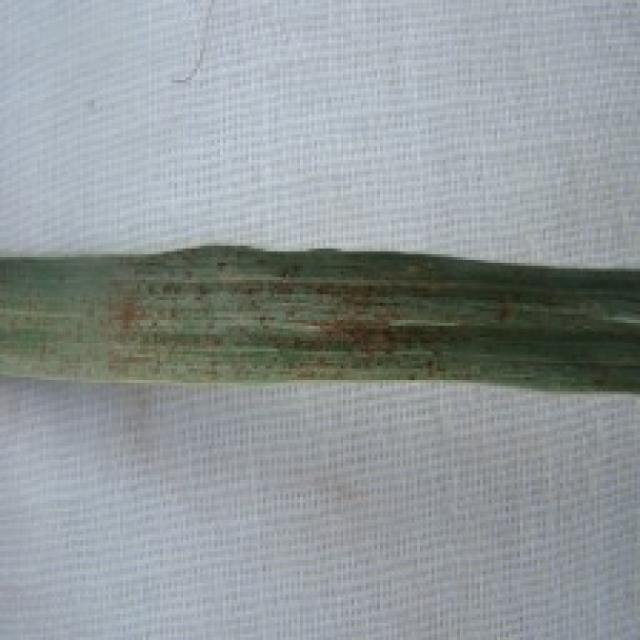Brown_Spot: (193, 263, 294, 380), (316, 275, 415, 380), (86, 275, 178, 378)
